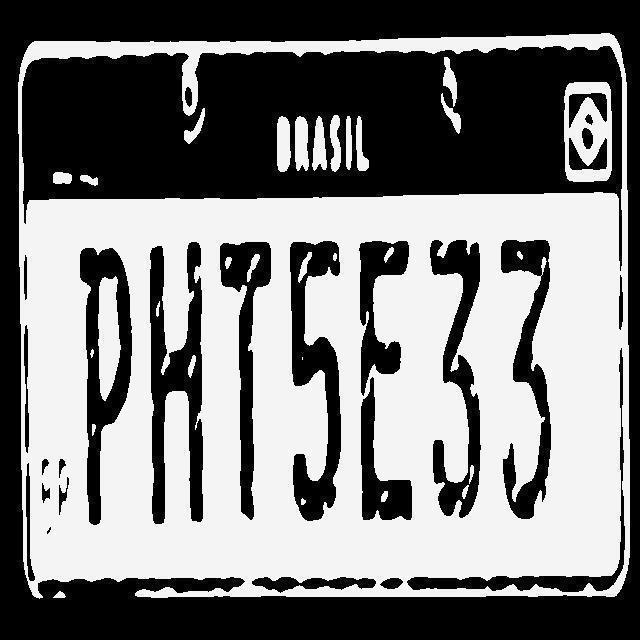3: (496, 236, 554, 522), (428, 238, 484, 520)
5: (289, 238, 344, 524)
e: (356, 238, 414, 522)
h: (146, 240, 206, 524)
p: (75, 244, 134, 526)
t: (218, 241, 276, 525)
